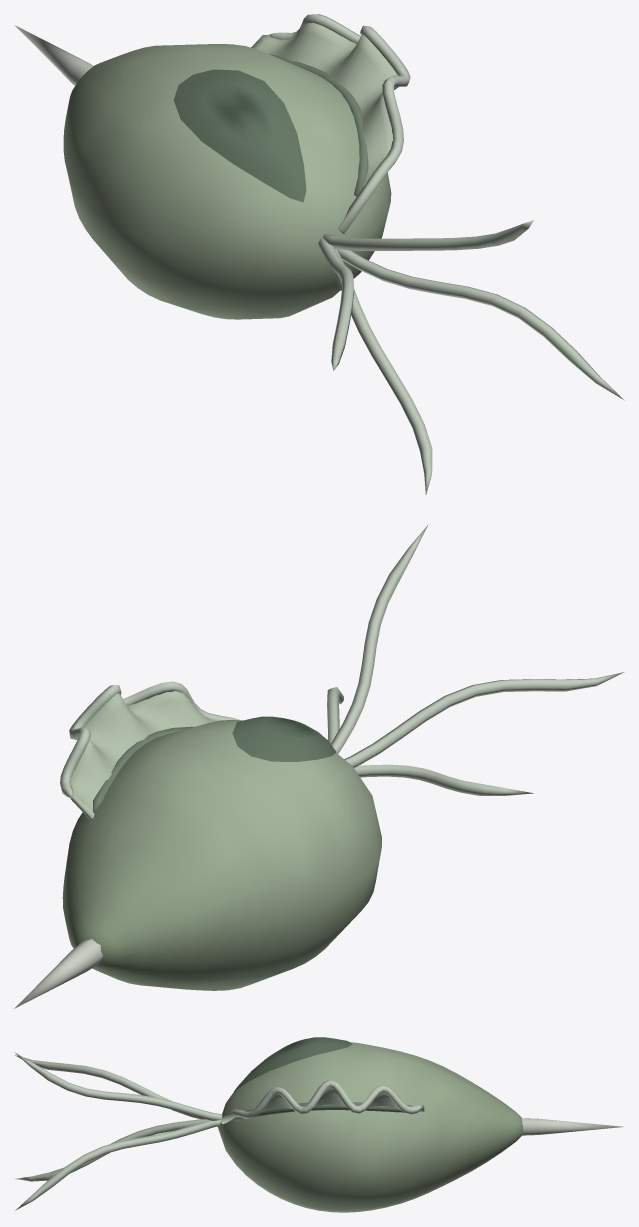
File: Trichomonas.fbx
3 views of the same model, one above another, from view 1: azimuth 30°, elevation 25°; view 2: azimuth 150°, elevation 25°; view 3: azimuth 270°, elevation 25° (orthographic). The views are drawn at different scales.
Visible parts, largest first — view 1: Trichomonas; view 2: Trichomonas; view 3: Trichomonas.
Boxes of the visible parts, x1,y1,x2,y2 form: Trichomonas: (15,14,624,494); Trichomonas: (14,524,624,1008); Trichomonas: (15,1037,623,1212).
Size of the model in its own units: 0.5769 by 0.4665 by 1.56.
